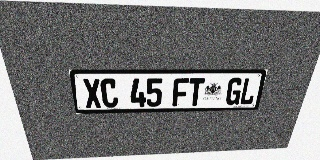4: (130, 78, 146, 107)
5: (147, 78, 162, 107)
C: (100, 78, 118, 108)
F: (172, 78, 189, 106)
G: (225, 78, 244, 105)
L: (239, 78, 258, 105)
T: (187, 78, 205, 106)
X: (82, 79, 102, 108)
